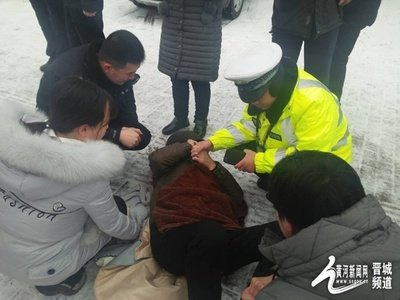fall: (137, 120, 267, 300)
